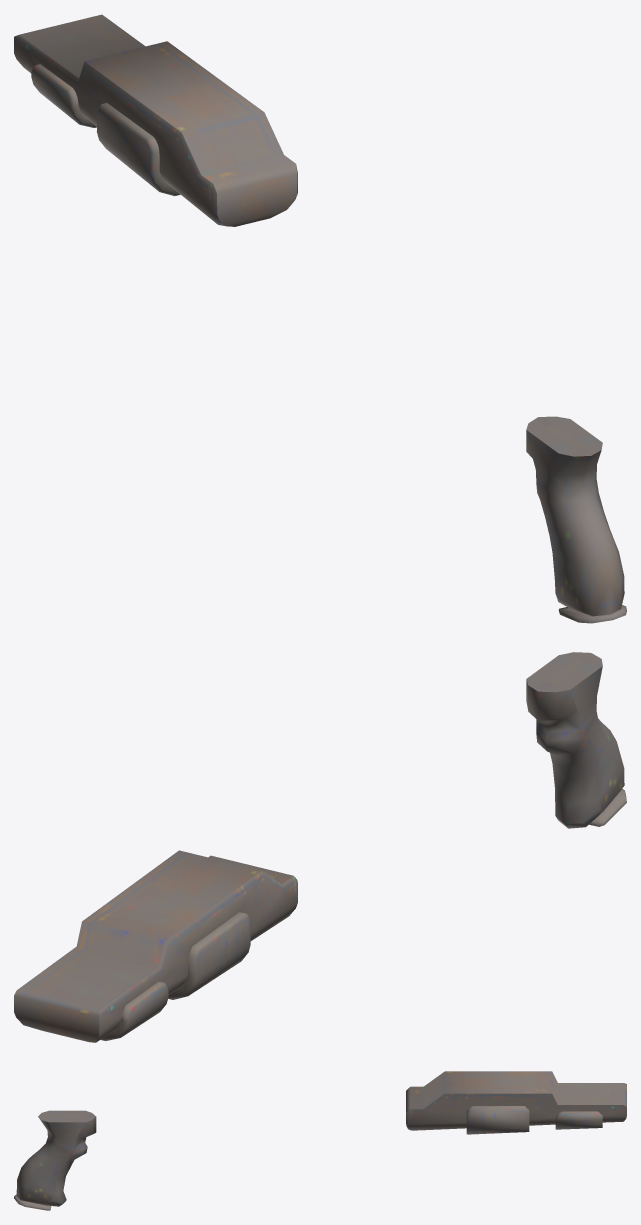
The model's file is grip2.obj.
The picture shows the model from 3 angles, top to bottom: view 1: azimuth 30°, elevation 25°; view 2: azimuth 150°, elevation 25°; view 3: azimuth 270°, elevation 25°; orthographic projection. The views are drawn at different scales.
Visible parts, largest first — view 1: grip2; view 2: grip2; view 3: grip2.
Part boxes in pixels (x1,y1,x2,y2): grip2: (14, 14, 626, 623); grip2: (14, 652, 626, 1042); grip2: (14, 1071, 626, 1210).
Size of the model in its own units: 7.24 by 15.37 by 69.34.
